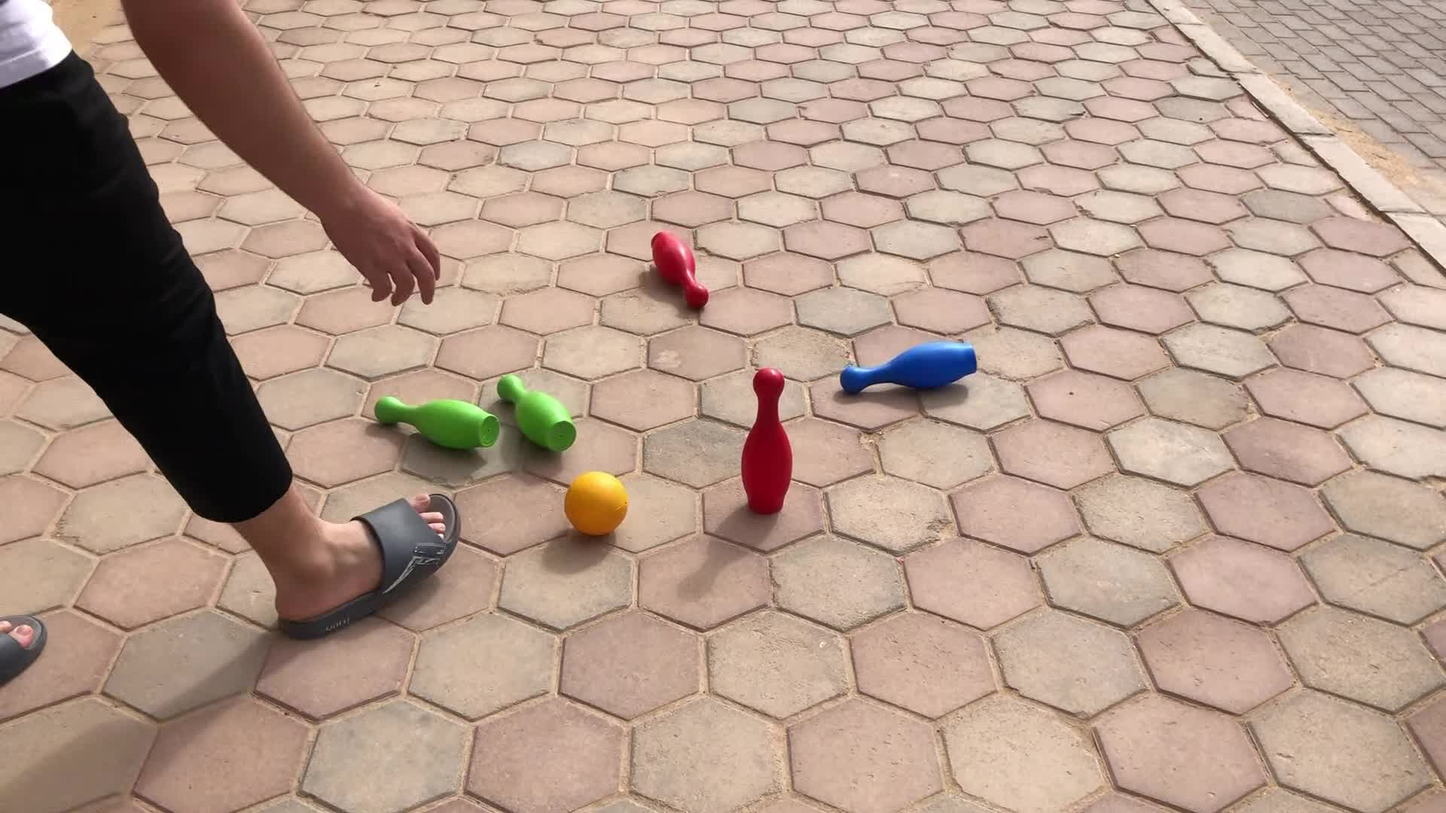pin: (740, 369, 793, 514), (375, 396, 499, 451), (840, 343, 978, 392), (498, 375, 576, 454), (650, 231, 708, 309)
